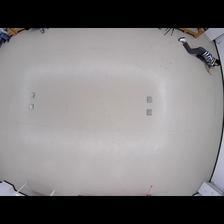fall: (177, 37, 222, 74)
